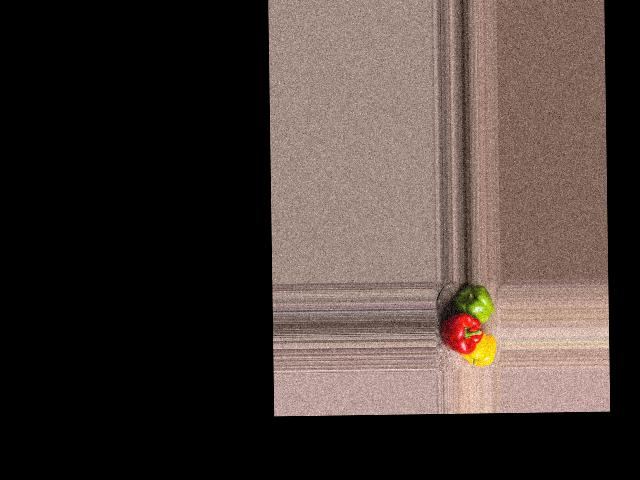bell_pepper: (461, 334, 498, 366)
